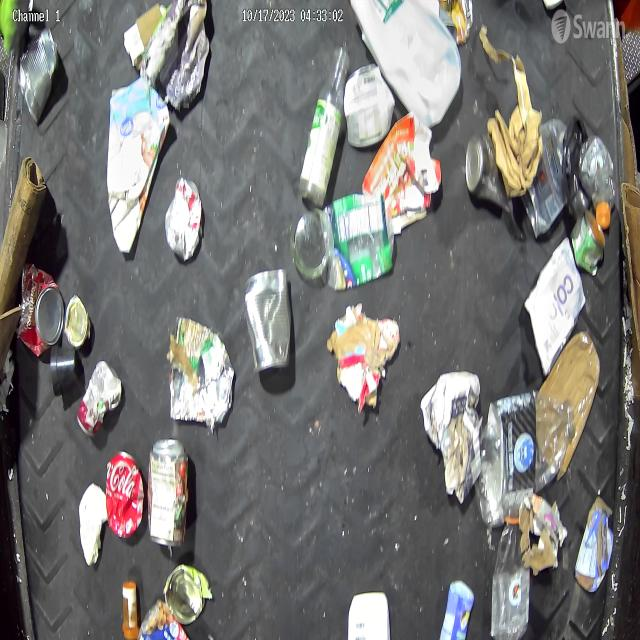can: (170, 315, 236, 420), (146, 436, 190, 552), (244, 268, 292, 371), (16, 26, 60, 122), (19, 262, 64, 354), (106, 447, 144, 540), (77, 360, 122, 437), (165, 177, 202, 262), (465, 132, 506, 206), (164, 561, 209, 627), (571, 209, 605, 276), (62, 293, 89, 350)
milk_jug: (348, 0, 462, 130)
non_white_jug: (107, 78, 170, 254)
plastic_bottle: (476, 391, 574, 525), (490, 508, 532, 637), (579, 135, 615, 229)
